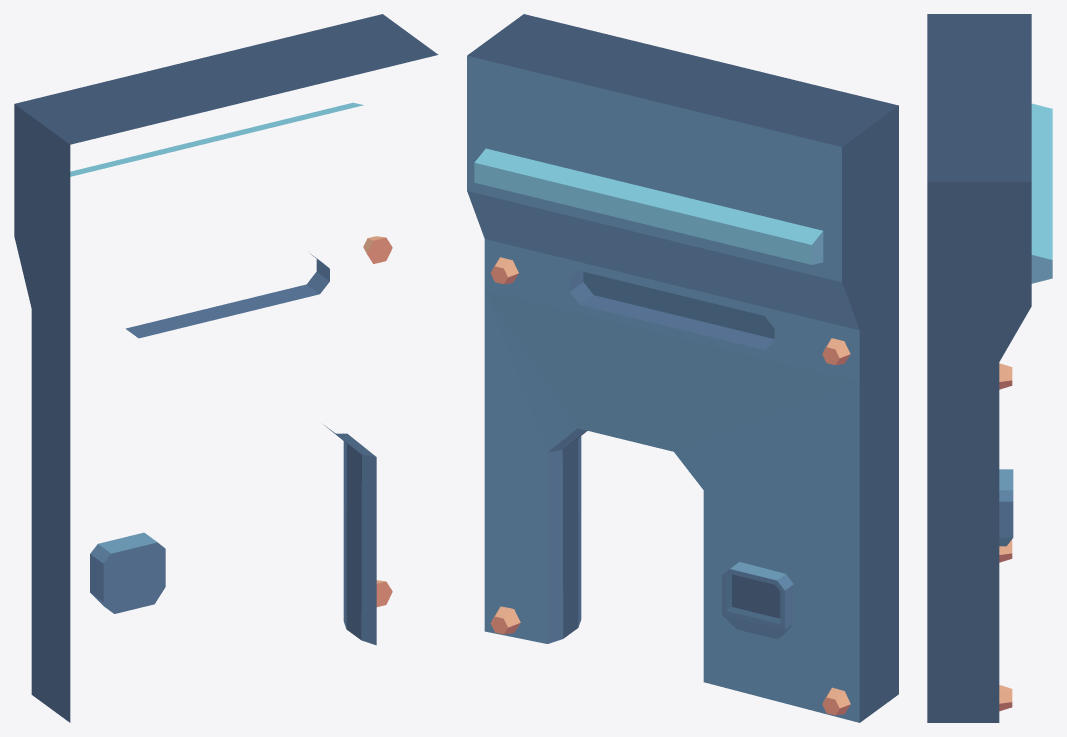
File: doorWall-flipped.glb
3 renders of one model, left to right at view 1: azimuth 30°, elevation 25°; view 2: azimuth 150°, elevation 25°; view 3: azimuth 270°, elevation 25°, orthographic. The views are drawn at different scales.
Visible parts, largest first — view 1: doorFrame.001, Cube.002; view 2: doorFrame.001, Cube.002; view 3: doorFrame.001, Cube.002.
Part boxes in pixels (box(x1,y1,x2,y2)): doorFrame.001: box(14, 14, 438, 722); Cube.002: box(90, 532, 165, 613); doorFrame.001: box(467, 14, 898, 722); Cube.002: box(722, 562, 793, 639); doorFrame.001: box(927, 14, 1052, 722); Cube.002: box(999, 469, 1013, 546).
Bounding box in the file's own units: 5 × 7.5 × 1.58.
1 material, 1 textured.
